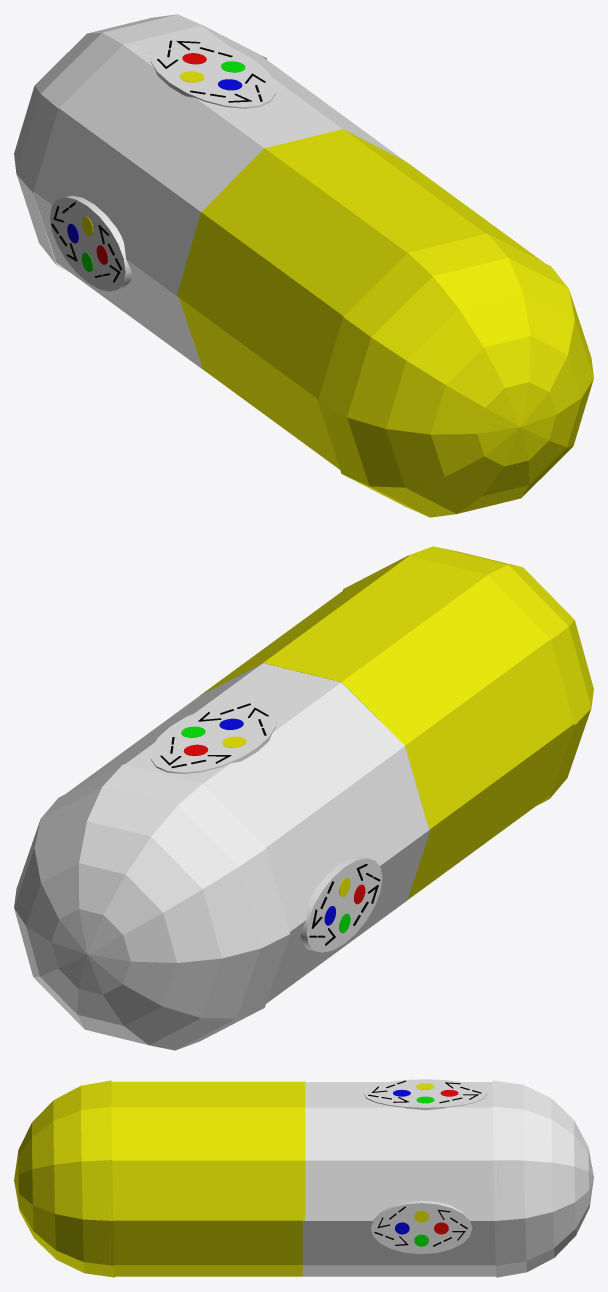
File: controlSwapAllObj.fbx
3 views of the same model, one above another, from view 1: azimuth 30°, elevation 25°; view 2: azimuth 150°, elevation 25°; view 3: azimuth 270°, elevation 25° (orthographic). The views are drawn at different scales.
Visible parts, largest first — view 1: controlSwapAllObj; view 2: controlSwapAllObj; view 3: controlSwapAllObj.
Part boxes in pixels (x1=…): controlSwapAllObj: x1=14, y1=14, x2=593, y2=517; controlSwapAllObj: x1=14, y1=546, x2=593, y2=1050; controlSwapAllObj: x1=14, y1=1079, x2=593, y2=1277.
Bounding box in the file's own units: 2.07 × 1.96 × 5.99.
